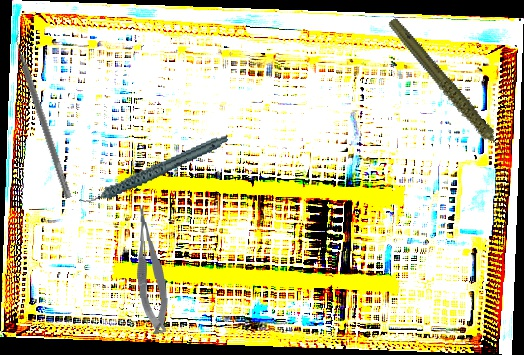Handpiece: (386, 0, 510, 183), (72, 134, 235, 206)
Micro Scissor: (132, 204, 171, 335)
Spatula Surgical: (8, 29, 80, 200)
